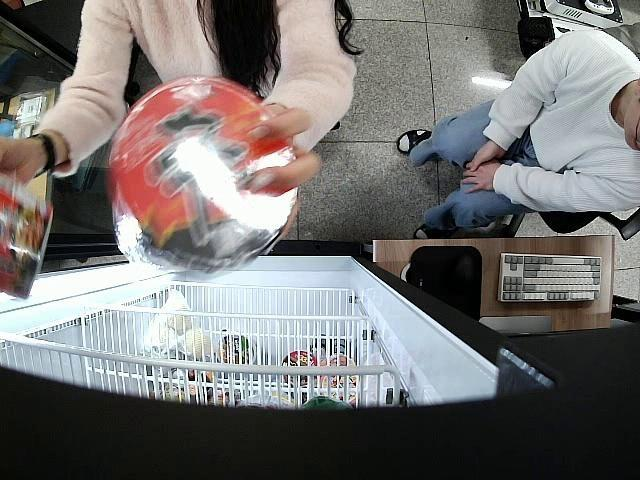01_ShinRamen_L: (107, 78, 300, 277), (0, 184, 54, 299)
